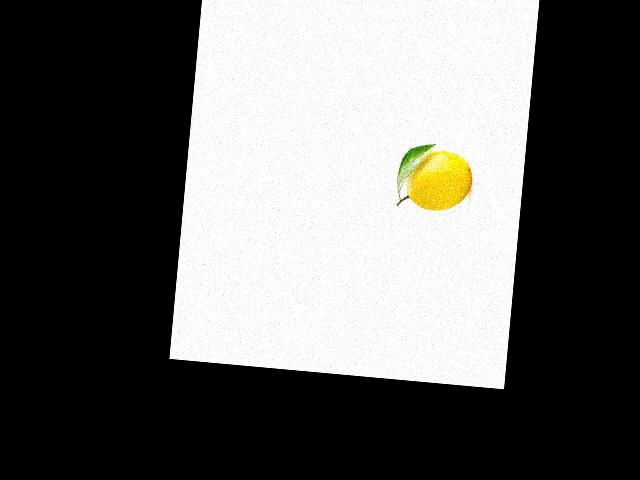lemon: (398, 144, 479, 218)
